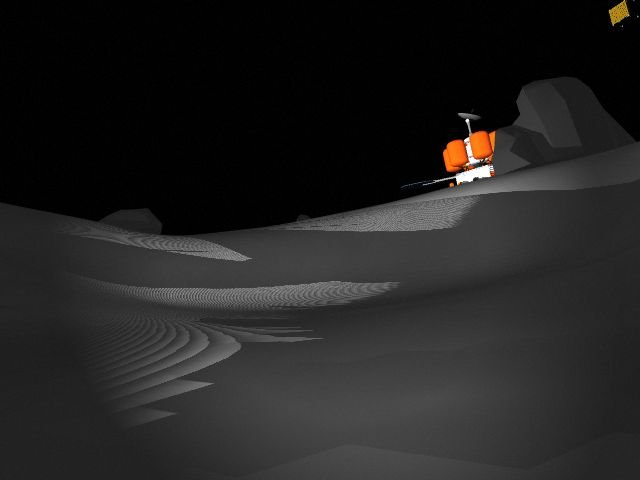cubesat: (609, 1, 639, 31)
